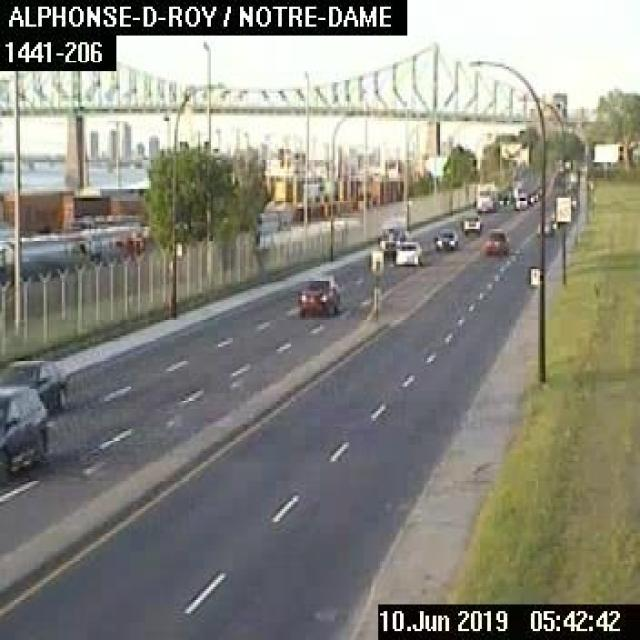vehicle: (0, 381, 49, 483), (0, 348, 71, 412), (290, 271, 340, 318), (376, 214, 408, 251), (472, 177, 499, 214), (392, 240, 423, 264), (484, 224, 507, 253), (431, 224, 456, 249), (459, 212, 483, 237)
